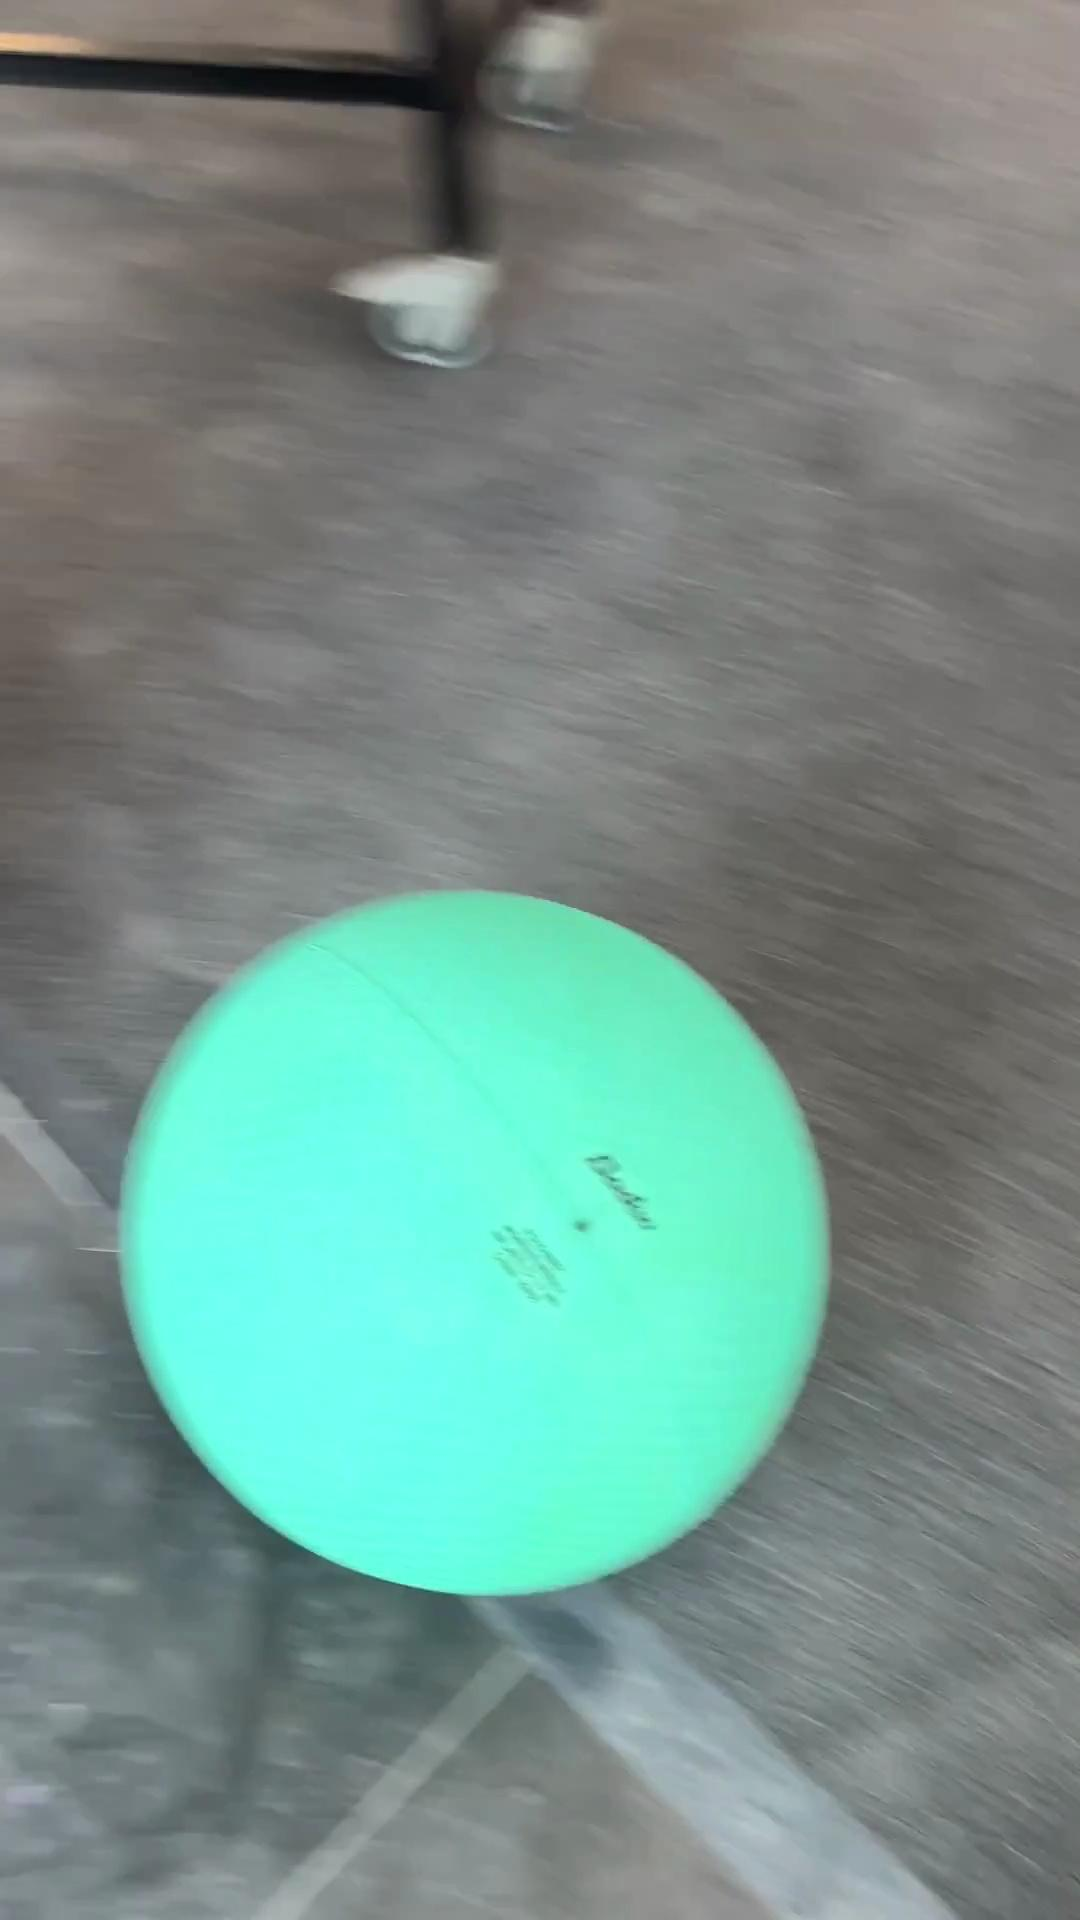ALGAE: (113, 884, 833, 1600)
